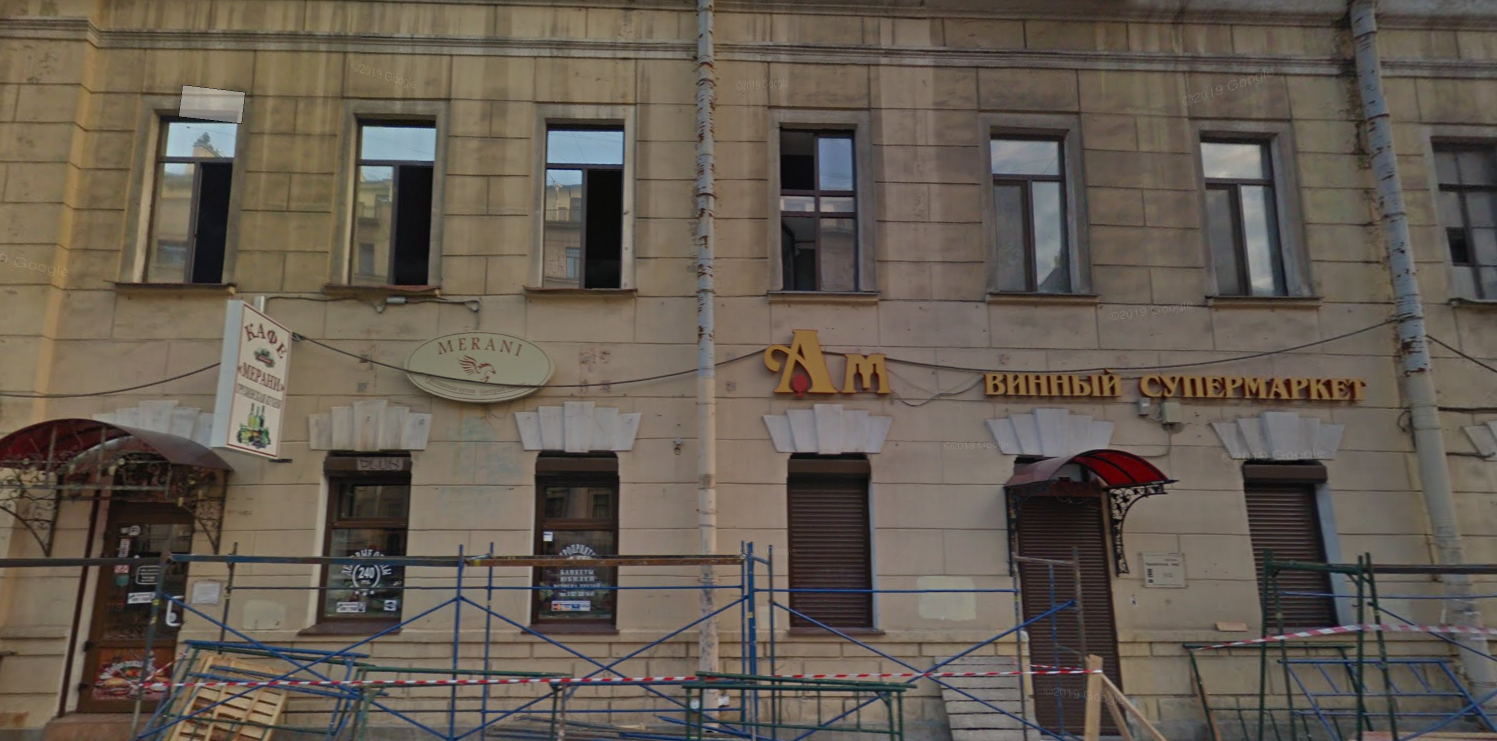cantilever: (206, 292, 305, 476)
door: (75, 504, 193, 711)
signboard: (984, 367, 1369, 415), (390, 321, 553, 404), (761, 318, 890, 403)
window: (127, 112, 241, 285), (340, 114, 440, 290), (537, 119, 626, 290), (317, 456, 407, 618), (1199, 137, 1283, 294), (779, 124, 856, 294), (536, 455, 614, 621), (993, 131, 1064, 294)
